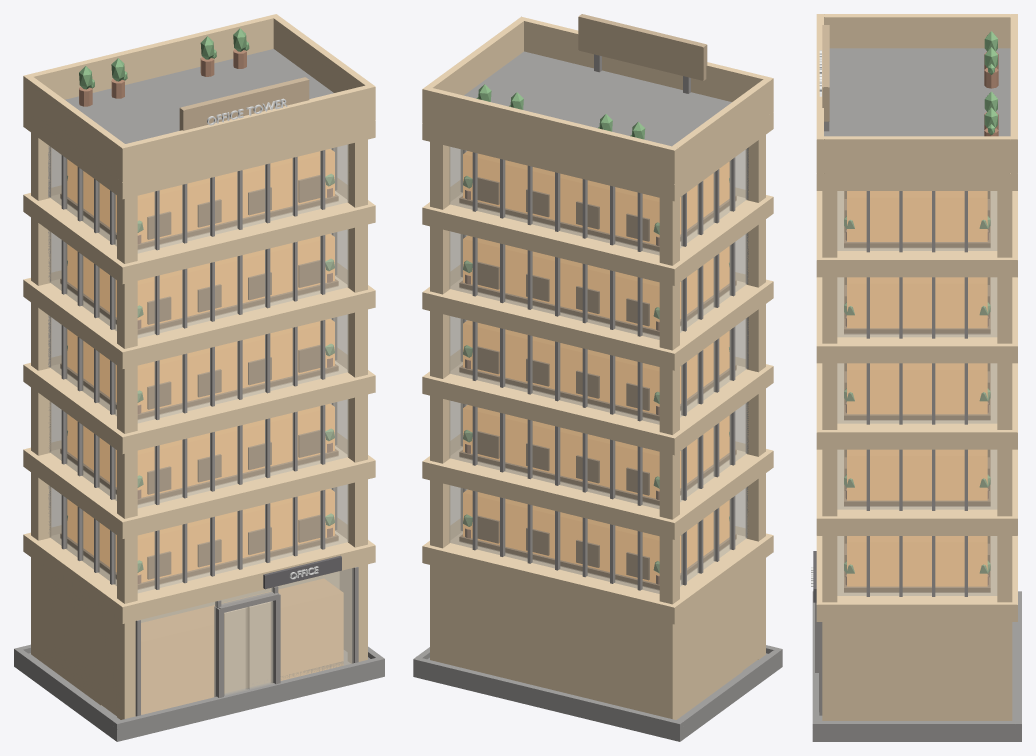
File: 31-office-tower.glb
The picture shows the model from 3 angles, left to right: view 1: azimuth 30°, elevation 25°; view 2: azimuth 150°, elevation 25°; view 3: azimuth 270°, elevation 25°; orthographic projection.
Parts seen in each view (by area): view 1: GF_Glass, B3_Glass, B4_Glass, B5_Glass, B2_Glass, B1_Glass, GF_Glow, Slab2, Slab1, Slab3, Slab4, ParapetF (+32 smaller); view 2: GF_Core, B5_Glass, B1_Glass, B2_Glass, B4_Glass, B3_Glass, RoofDeck, Slab3, Slab1, SlabGF, Slab2, Slab4 (+23 smaller); view 3: RoofDeck, GF_Core, B3_Glass, B4_Glass, B2_Glass, B1_Glass, B5_Glass, Slab4, ParapetR, Slab3, Slab2, Slab1 (+24 smaller).
Boxes of the visible parts, x1,y1,x2,y2 form: GF_Glass: (140,568,353,714); B3_Glass: (49,314,348,423); B4_Glass: (49,229,348,338); B5_Glass: (49,144,348,253); B2_Glass: (49,399,348,508); B1_Glass: (49,484,348,593); GF_Glow: (141,579,343,714); Slab2: (23,348,375,454); Slab1: (23,433,375,538); Slab3: (23,263,375,369); Slab4: (23,178,375,284); ParapetF: (118,84,375,182); GF_Core: (430,565,742,719); B5_Glass: (449,147,747,255); B1_Glass: (449,485,747,593); B2_Glass: (449,400,747,509); B4_Glass: (449,231,747,339); B3_Glass: (449,316,747,424); RoofDeck: (464,51,731,146); Slab3: (422,265,773,370); Slab1: (422,434,773,539); SlabGF: (422,519,773,624); Slab2: (422,349,773,455); Slab4: (422,180,773,285); RoofDeck: (824,48,1010,136); GF_Core: (869,622,1012,720); B3_Glass: (837,363,997,423); B4_Glass: (837,277,997,337); B2_Glass: (837,449,997,509); B1_Glass: (837,536,997,595); B5_Glass: (837,191,997,250); Slab4: (816,191,1017,277); ParapetR: (824,136,1010,173); Slab3: (816,277,1017,363); Slab2: (816,363,1017,449); Slab1: (816,449,1017,535).
Bounding box in the file's own units: 3.3 × 7.19 × 2.22.
